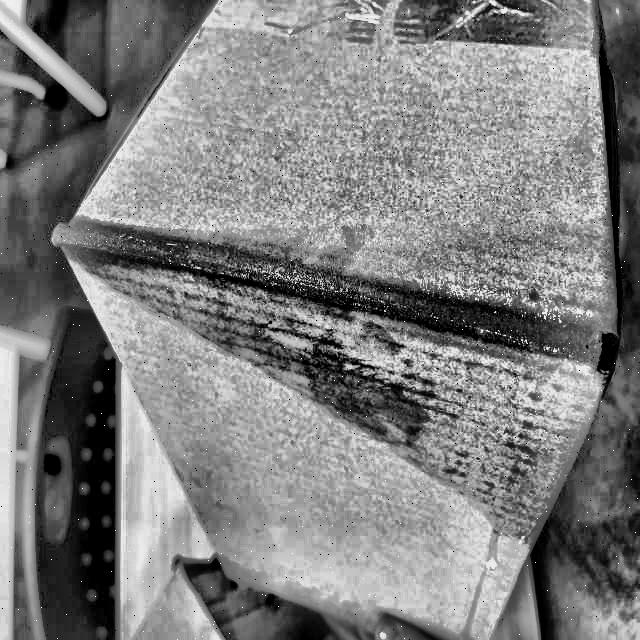box: (42, 1, 625, 640)
wet: (54, 218, 607, 537)
